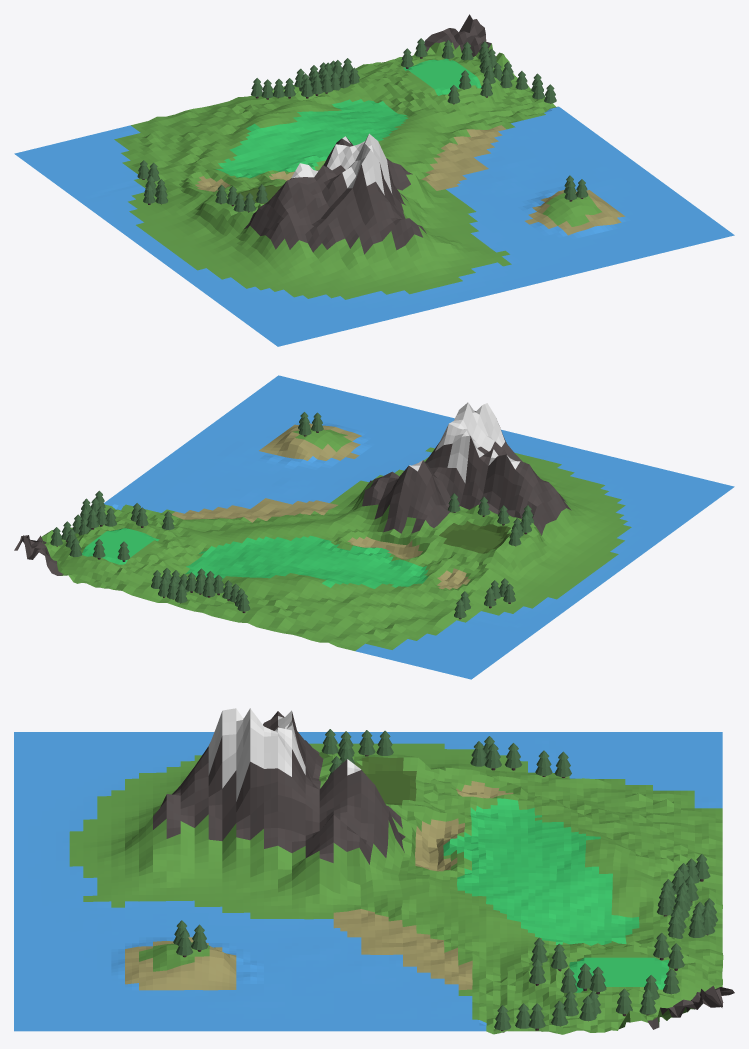
The model's file is map.glb.
3 renders of one model, top to bottom at view 1: azimuth 30°, elevation 25°; view 2: azimuth 150°, elevation 25°; view 3: azimuth 270°, elevation 25°, orthographic. The views are drawn at different scales.
Parts seen in each view (by area): view 1: map, trees; view 2: map, trees; view 3: map, trees.
Boxes of the visible parts, x1,y1,x2,y2 form: map: (14, 14, 734, 346); trees: (137, 38, 588, 212); map: (14, 375, 734, 679); trees: (50, 412, 533, 619); map: (14, 708, 734, 1034); trees: (173, 729, 717, 1032).
Size of what is drawn, in the model's own units: 202 by 52.02 by 204.
